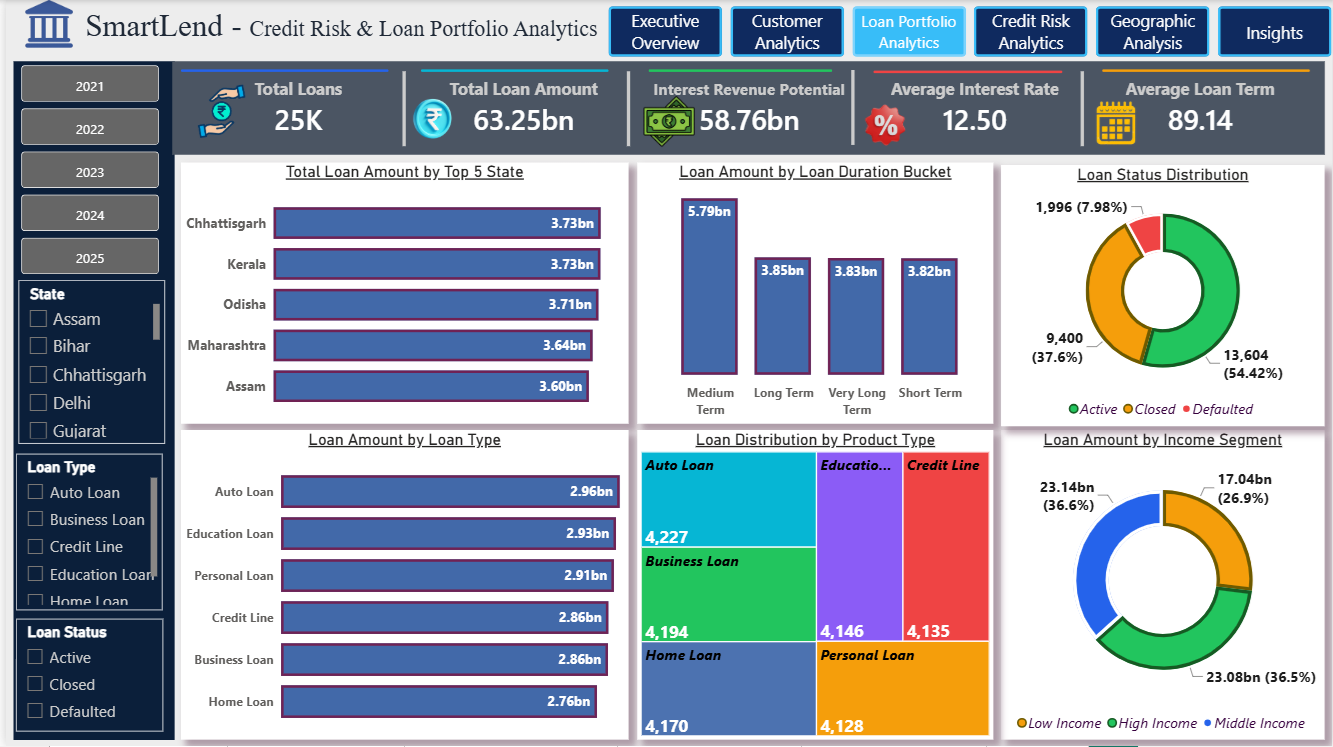

The dashboard page shown, as its layout file describes it:
{"tool":"powerbi","page":{"name":"Loan Portfolio Analytics","canvas":[1600,900],"ordinal":2},"visuals":[{"type":"shape","box":[9,73.9,194.5,818.9],"z":0},{"type":"shape","box":[200.6,73.9,1390.4,113.1],"z":1000},{"type":"cardVisual","fields":{"Data":["00_Measures.Total Loans","00_Measures.Total Loan Amount","00_Measures.Interest Revenue Potential","00_Measures.Average Interest Rate","00_Measures.Average Loan Term"]},"box":[203.1,81.2,1387.5,96.9],"z":2000},{"type":"shape","box":[455.4,86,49.8,90.5],"z":3000},{"type":"donutChart","title":"Loan Amount by Income Segment","fields":{"Category":["SmartLend_Final_Analytics_Dataset.income_segment"],"Y":["00_Measures.Total Loan Amount"]},"box":[1200.4,518.8,390.6,374],"z":4000},{"type":"clusteredBarChart","title":"Total Loan Amount by Top 5 State","fields":{"Category":["SmartLend_Final_Analytics_Dataset.state"],"Y":["00_Measures.Total Loan Amount"]},"box":[211.1,196,539.9,315.2],"z":5000},{"type":"columnChart","title":"Loan Amount by Loan Duration Bucket","fields":{"Category":["SmartLend_Final_Analytics_Dataset.loan_duration_bucket"],"Y":["00_Measures.Total Loan Amount"]},"box":[761.6,196,429.8,315.2],"z":6000},{"type":"slicer","fields":{"Values":["SmartLend_Final_Analytics_Dataset.state"]},"box":[15.1,337.8,176.4,197.6],"z":7000},{"type":"slicer","fields":{"Values":["SmartLend_Final_Analytics_Dataset.loan_status"]},"box":[12.1,746.5,177.9,135.7],"z":8000},{"type":"slicer","fields":{"Values":["SmartLend_Final_Analytics_Dataset.loan_type"]},"box":[12.1,547.4,176.4,188.5],"z":9000},{"type":"shape","box":[1274.3,86,48.3,90.5],"z":10000},{"type":"shape","box":[996.8,84.5,49.8,90.5],"z":11000},{"type":"shape","box":[726.9,86,48.3,90.5],"z":12000},{"type":"image","box":[13.6,0,76.9,57.3],"z":13000},{"type":"image","box":[461.5,110.1,108.6,67.9],"z":14000},{"type":"image","box":[200.6,81.4,119.1,105.6],"z":15000},{"type":"image","box":[742,116.1,116.1,61.8],"z":16000},{"type":"image","box":[1287.9,111.6,102.5,78.4],"z":17000},{"type":"image","box":[1007.4,102.5,107.1,96.5],"z":18000},{"type":"shape","box":[211.1,73.9,250.3,22.6],"z":19000},{"type":"shape","box":[500.7,73.9,226.2,22.6],"z":20000},{"type":"shape","box":[1046.6,75.4,227.7,22.6],"z":21000},{"type":"shape","box":[775.1,73.9,221.7,22.6],"z":22000},{"type":"shape","box":[1322.6,73.9,250.3,22.6],"z":23000},{"type":"clusteredBarChart","title":"Loan Amount by Loan Type","fields":{"Y":["00_Measures.Total Loan Amount"],"Category":["SmartLend_Final_Analytics_Dataset.loan_type"]},"box":[211.1,518.8,539.9,374],"z":24000},{"type":"treemap","title":"Loan Distribution by Product Type","fields":{"Group":["SmartLend_Final_Analytics_Dataset.loan_type"],"Values":["00_Measures.Total Loans"]},"box":[761.6,518.8,429.8,374],"z":25000},{"type":"donutChart","title":"Loan Status Distribution","fields":{"Category":["SmartLend_Final_Analytics_Dataset.loan_status"],"Y":["CountNonNull(SmartLend_Final_Analytics_Dataset.loan_id)"]},"box":[1200.4,199.1,390.6,315.2],"z":26000},{"type":"advancedSlicerVisual","fields":{"Values":["SmartLend_Final_Analytics_Dataset.loan_issue_date.Variation.Date Hierarchy.Year"]},"box":[13.6,73.9,176.4,263.9],"z":27000},{"type":"textbox","box":[90.5,0,636.4,73.9],"z":28000},{"type":"pageNavigator","box":[726.9,7.5,873.2,61.8],"z":29000}]}

Visuals, with their boxes in screenshot pixels (x1, y1, x2, y2), scaled from the page's 1600x900 canvas onto the 1333x747 screenshot:
shape: bbox=[7, 61, 170, 741]
shape: bbox=[167, 61, 1326, 155]
cardVisual - 00_Measures.Total Loans x 00_Measures.Total Loan Amount: bbox=[169, 67, 1325, 148]
shape: bbox=[379, 71, 421, 146]
"Loan Amount by Income Segment" donutChart: bbox=[1000, 431, 1326, 741]
"Total Loan Amount by Top 5 State" clusteredBarChart: bbox=[176, 163, 626, 424]
"Loan Amount by Loan Duration Bucket" columnChart: bbox=[635, 163, 993, 424]
slicer - SmartLend_Final_Analytics_Dataset.state: bbox=[13, 280, 160, 444]
slicer - SmartLend_Final_Analytics_Dataset.loan_status: bbox=[10, 620, 158, 732]
slicer - SmartLend_Final_Analytics_Dataset.loan_type: bbox=[10, 454, 157, 611]
shape: bbox=[1062, 71, 1102, 146]
shape: bbox=[830, 70, 872, 145]
shape: bbox=[606, 71, 646, 146]
image: bbox=[11, 0, 75, 48]
image: bbox=[384, 91, 475, 148]
image: bbox=[167, 68, 266, 155]
image: bbox=[618, 96, 715, 148]
image: bbox=[1073, 93, 1158, 158]
image: bbox=[839, 85, 929, 165]
shape: bbox=[176, 61, 384, 80]
shape: bbox=[417, 61, 606, 80]
shape: bbox=[872, 63, 1062, 81]
shape: bbox=[646, 61, 830, 80]
shape: bbox=[1102, 61, 1310, 80]
"Loan Amount by Loan Type" clusteredBarChart: bbox=[176, 431, 626, 741]
"Loan Distribution by Product Type" treemap: bbox=[635, 431, 993, 741]
"Loan Status Distribution" donutChart: bbox=[1000, 165, 1326, 427]
advancedSlicerVisual - SmartLend_Final_Analytics_Dataset.loan_issue_date.Variation.Date Hierarchy.Year: bbox=[11, 61, 158, 280]
textbox: bbox=[75, 0, 606, 61]
pageNavigator: bbox=[606, 6, 1332, 58]
